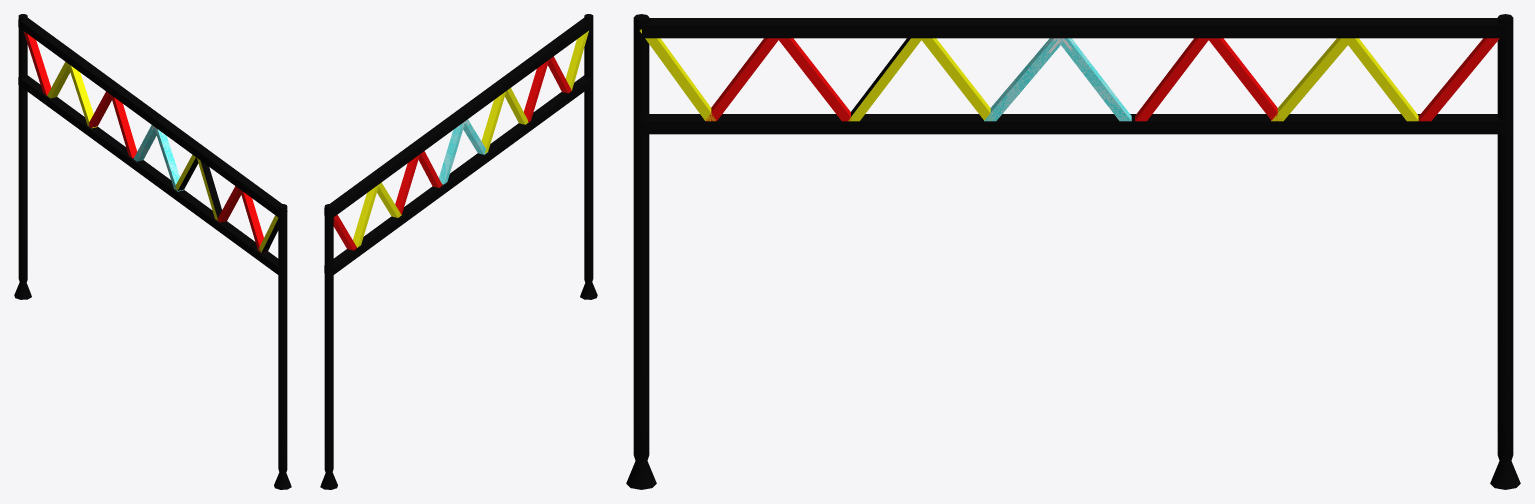
File: overhead sign2.FBX
The picture shows the model from 3 angles, left to right: view 1: azimuth 30°, elevation 25°; view 2: azimuth 150°, elevation 25°; view 3: azimuth 270°, elevation 25°; orthographic projection. The views are drawn at different scales.
Visible parts, largest first — view 1: Cylinder003; view 2: Cylinder003; view 3: Cylinder003.
Boxes of the visible parts, bbox=[...] form: Cylinder003: bbox=[14, 14, 291, 489]; Cylinder003: bbox=[320, 14, 597, 489]; Cylinder003: bbox=[626, 14, 1520, 489].
Size of the model in its own units: 3.55 by 59.49 by 103.
